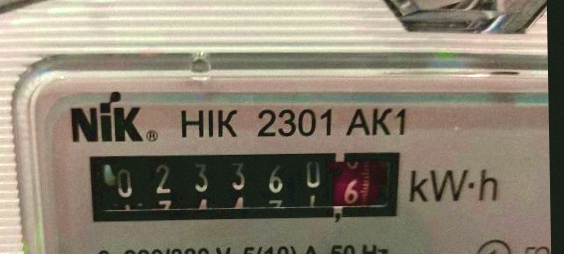0: (113, 164, 134, 198), (304, 157, 321, 189)
2: (151, 161, 174, 195)
3: (189, 160, 210, 193), (228, 159, 247, 190)
6: (264, 161, 284, 193), (339, 175, 361, 204)
screen: (70, 133, 414, 237)
